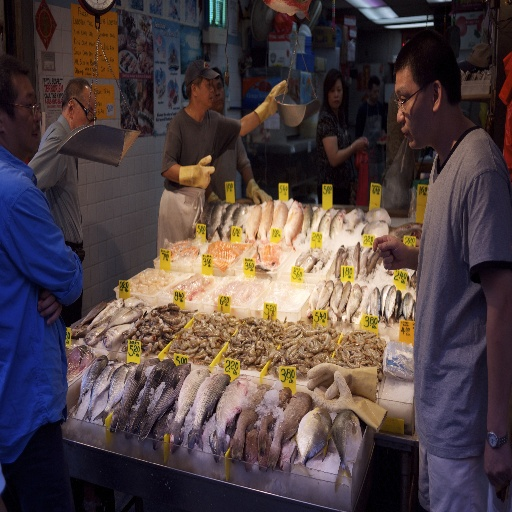hand: (484, 438, 511, 502), (372, 234, 406, 270), (264, 77, 289, 116), (191, 153, 215, 190), (38, 289, 62, 324), (251, 183, 272, 205), (352, 137, 365, 150), (359, 136, 369, 146)
